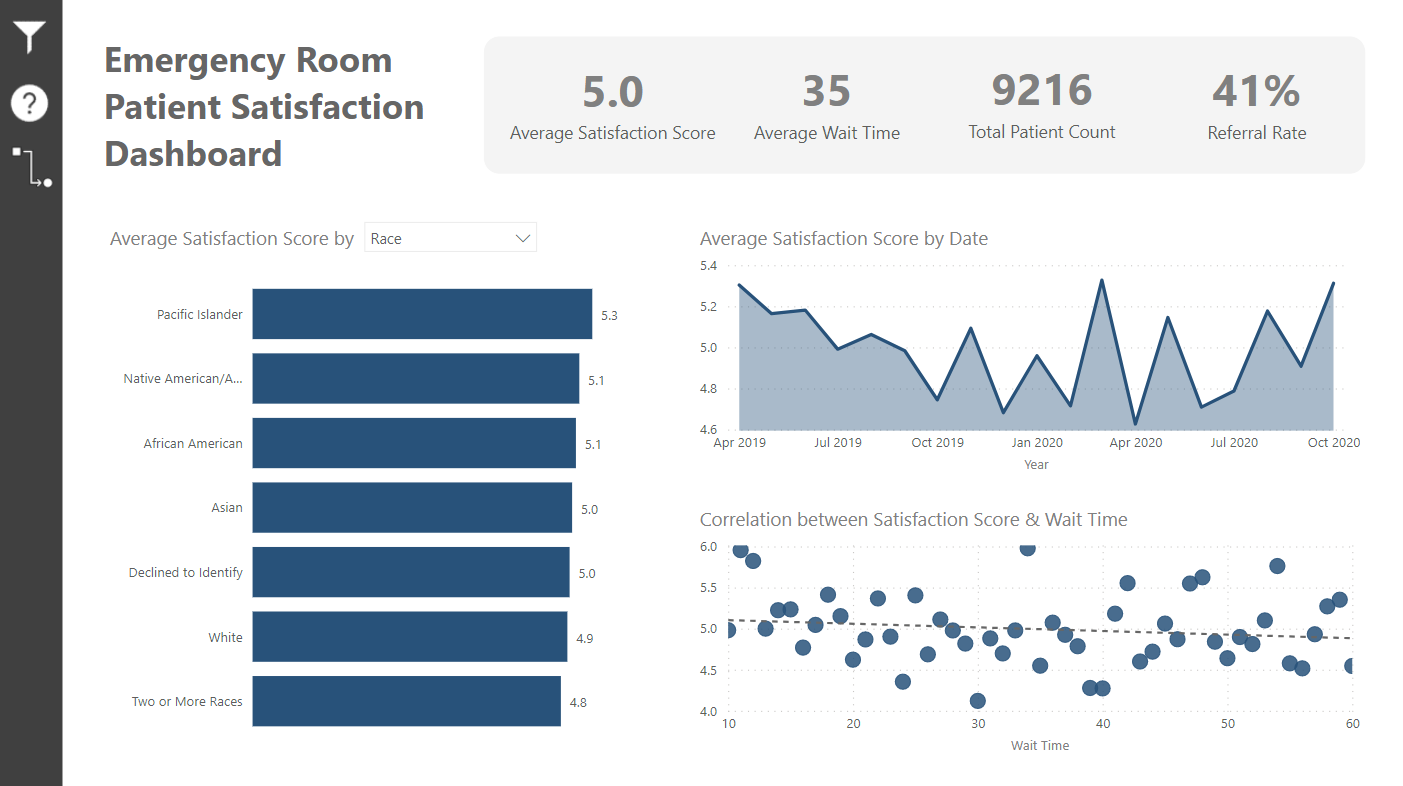

Layout of this report page (visuals, bound fields, positions):
{"tool":"powerbi","page":{"name":"Summary","canvas":[1280,720],"ordinal":0},"visuals":[{"type":"basicShape","box":[441,34.1,802.4,126.1],"z":0,"group":"g2"},{"type":"card","fields":{"Values":["_Measures.Patient Count"]},"box":[848.2,42.2,200.4,100.7],"z":0,"group":"g1"},{"type":"scatterChart","title":"Correlation between Satisfaction Score & Wait Time","fields":{"Y":["Avg(Fact.Satisfaction Score)"],"X":["Sum(Fact.Waittime)"]},"box":[632.5,461,610,230.5],"z":0},{"type":"actionButton","title":"Slicer pane trigger","box":[0,0,61.1,66.5],"z":1000},{"type":"group","id":"g1","title":"KPIs","box":[459,42.2,784.4,101.8],"z":1000,"group":"g2"},{"type":"card","fields":{"Values":["_Measures.Average Wait Time"]},"box":[653.3,43.3,199.8,100.4],"z":1000,"group":"g1"},{"type":"card","fields":{"Values":["_Measures.Average Satisfaction Score"]},"box":[459,43.3,199.4,100.7],"z":2000,"group":"g1"},{"type":"stackedAreaChart","title":"Average Satisfaction Score by Date","fields":{"Category":["Date.Date.Variation.Date Hierarchy.Year","Date.Date.Variation.Date Hierarchy.Quarter","Date.Date.Variation.Date Hierarchy.Month","Date.Date.Variation.Date Hierarchy.Day"],"Y":["_Measures.Average Satisfaction Score"]},"box":[632.5,205.8,610,230.5],"z":2000},{"type":"card","fields":{"Values":["_Measures.Referral Rate"]},"box":[1043.6,43.3,199.8,100.4],"z":3000,"group":"g1"},{"type":"barChart","title":"Average Satisfaction Score by","fields":{"Y":["_Measures.Average Satisfaction Score"],"Category":["Dynamic Dimensions.Value"]},"box":[96.5,205.8,487.8,485.6],"z":3000},{"type":"slicer","fields":{"Values":["Dynamic Dimensions.Attribute"]},"box":[322.7,193,176.9,49.3],"z":4000},{"type":"textbox","title":"Title","box":[91.1,28.9,333.4,156.5],"z":5000},{"type":"image","title":"Navigate to Root Cause Analysis","box":[0,123,61.5,61.5],"z":6000},{"type":"actionButton","title":"Info panel button","box":[0,66.5,61.5,56.4],"z":6500},{"type":"group","id":"g2","title":"KPIs with Background","box":[441,34.1,802.4,126.4],"z":7000}]}

Visuals, with their boxes on the page's 1280x720 design canvas (x1, y1, x2, y2). These are canvas units, not pixel positions in the 1403x786 screenshot, which may show the page scaled, cropped or inside an application window:
basicShape: [x1=441, y1=34, x2=1243, y2=160]
card - _Measures.Patient Count: [x1=848, y1=42, x2=1049, y2=143]
"Correlation between Satisfaction Score & Wait Time" scatterChart: [x1=632, y1=461, x2=1242, y2=692]
"Slicer pane trigger" actionButton: [x1=0, y1=0, x2=61, y2=66]
"KPIs" group: [x1=459, y1=42, x2=1243, y2=144]
card - _Measures.Average Wait Time: [x1=653, y1=43, x2=853, y2=144]
card - _Measures.Average Satisfaction Score: [x1=459, y1=43, x2=658, y2=144]
"Average Satisfaction Score by Date" stackedAreaChart: [x1=632, y1=206, x2=1242, y2=436]
card - _Measures.Referral Rate: [x1=1044, y1=43, x2=1243, y2=144]
"Average Satisfaction Score by" barChart: [x1=96, y1=206, x2=584, y2=691]
slicer - Dynamic Dimensions.Attribute: [x1=323, y1=193, x2=500, y2=242]
"Title" textbox: [x1=91, y1=29, x2=424, y2=185]
"Navigate to Root Cause Analysis" image: [x1=0, y1=123, x2=62, y2=184]
"Info panel button" actionButton: [x1=0, y1=66, x2=62, y2=123]
"KPIs with Background" group: [x1=441, y1=34, x2=1243, y2=160]
